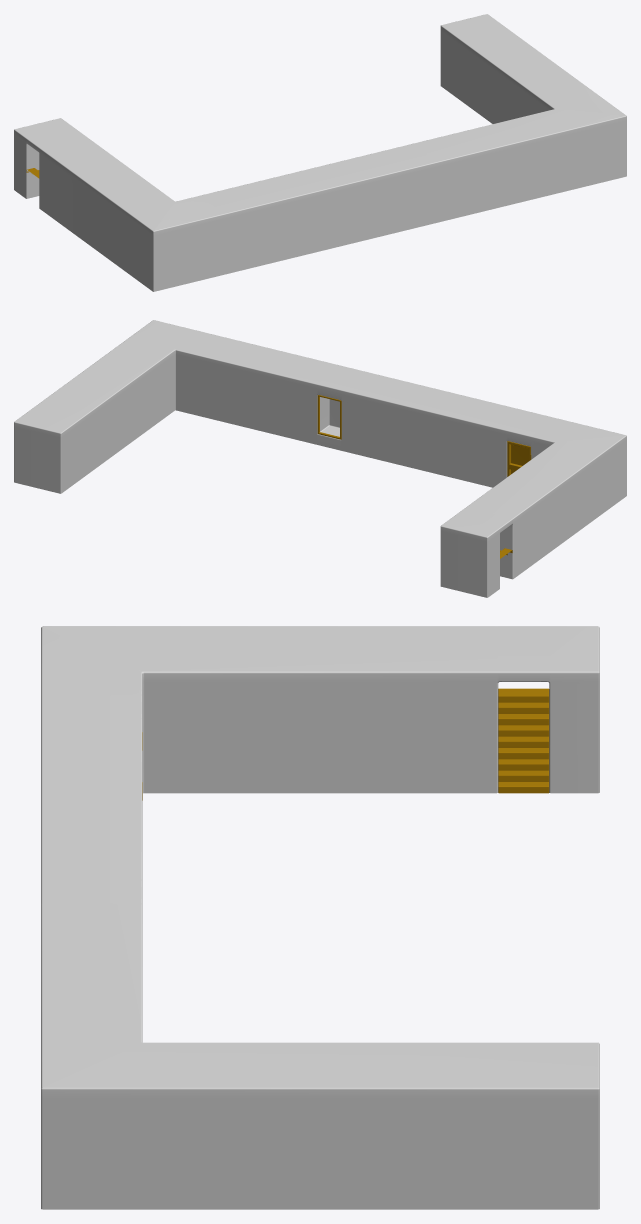
File: Walls_Door.fbx
3 renders of one model, top to bottom at view 1: azimuth 30°, elevation 25°; view 2: azimuth 150°, elevation 25°; view 3: azimuth 270°, elevation 25°, orthographic. The views are drawn at different scales.
Parts seen in each view (by area): view 1: Walls; view 2: Walls, Door; view 3: Walls.
Part boxes in pixels (x1,y1,x2,y2): Walls: (14,14,626,291); Walls: (14,320,626,597); Door: (507,441,531,476); Walls: (41,626,599,1209).
Bounding box in the file's own units: 7.87 × 0.9619 × 4.02.
